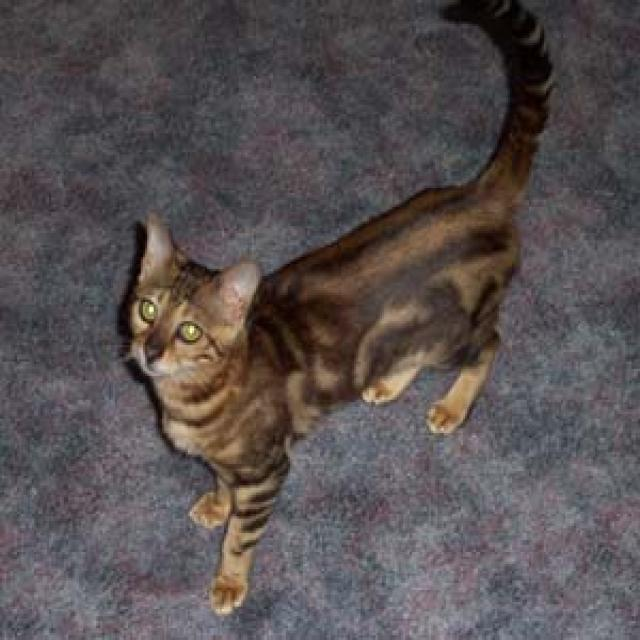Bengal: (126, 212, 258, 376)
